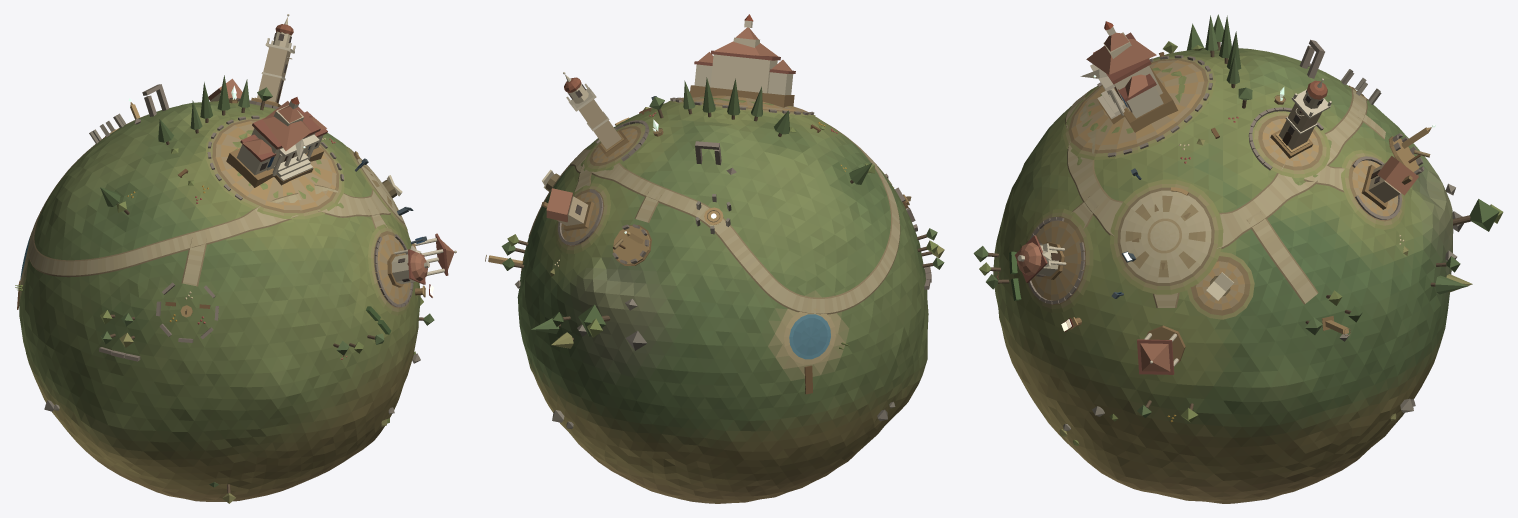
Rendered from learning-v3.glb.
3 renders of one model, left to right at view 1: azimuth 30°, elevation 25°; view 2: azimuth 150°, elevation 25°; view 3: azimuth 270°, elevation 25°, orthographic. The views are drawn at different scales.
Parts seen in each view (by area): view 1: LEARNING_TERRAIN, LEARNING_PATHS_PAVING, LEARNING_DECORATIONS_STATIC, ACADEMY_HALL, ACADEMY_TOWER, LIBRARY, STUDY_PAVILION; view 2: LEARNING_TERRAIN, LEARNING_PATHS_PAVING, LEARNING_DECORATIONS_STATIC, ACADEMY_HALL, ACADEMY_TOWER, GARDEN_CLASSROOM; view 3: LEARNING_TERRAIN, LEARNING_PATHS_PAVING, LEARNING_DECORATIONS_STATIC, ACADEMY_HALL, ACADEMY_TOWER, STUDY_PAVILION, GARDEN_CLASSROOM, LIBRARY.
Part boxes in pixels (box(x1,y1,x2,y2)): LEARNING_TERRAIN: box(19, 101, 420, 501); LEARNING_PATHS_PAVING: box(20, 115, 412, 315); LEARNING_DECORATIONS_STATIC: box(15, 75, 434, 503); ACADEMY_HALL: box(226, 97, 327, 187); ACADEMY_TOWER: box(251, 14, 295, 106); LIBRARY: box(387, 245, 429, 287); STUDY_PAVILION: box(412, 233, 456, 275); LEARNING_TERRAIN: box(517, 97, 928, 503); LEARNING_PATHS_PAVING: box(528, 95, 900, 364); LEARNING_DECORATIONS_STATIC: box(485, 77, 944, 428); ACADEMY_HALL: box(690, 14, 795, 107); ACADEMY_TOWER: box(563, 72, 628, 157); GARDEN_CLASSROOM: box(541, 188, 594, 231); LEARNING_TERRAIN: box(993, 48, 1453, 503); LEARNING_PATHS_PAVING: box(1025, 56, 1405, 319); LEARNING_DECORATIONS_STATIC: box(973, 14, 1503, 445); ACADEMY_HALL: box(1080, 21, 1178, 132); ACADEMY_TOWER: box(1270, 78, 1331, 158); STUDY_PAVILION: box(1137, 325, 1185, 374); GARDEN_CLASSROOM: box(1361, 156, 1418, 209); LIBRARY: box(1015, 235, 1066, 282).
Bounding box in the file's own units: 9.18 × 9.66 × 9.78.
